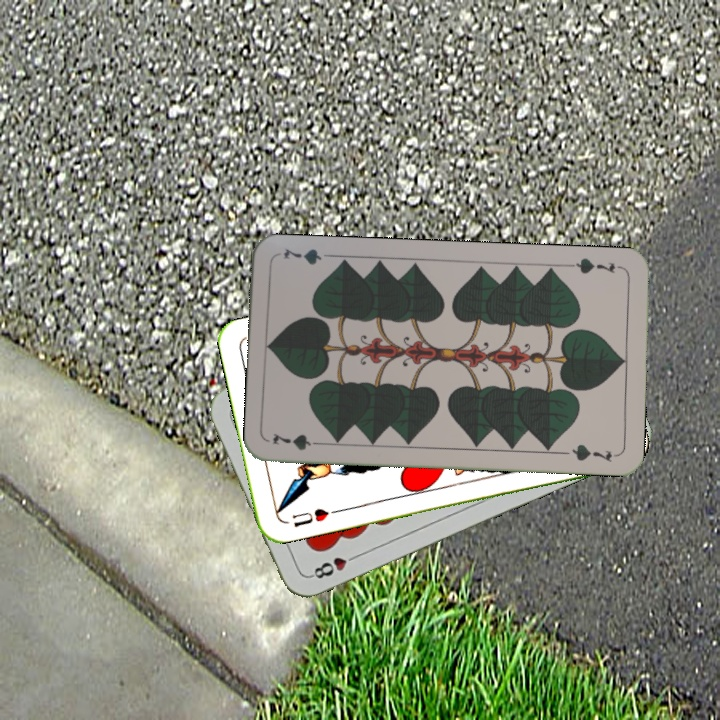G7: (268, 429, 328, 453), (566, 254, 625, 276)
H8: (306, 549, 362, 582)
HU: (289, 504, 340, 530)
